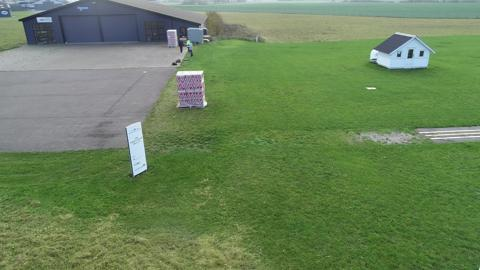RockwoolPallet: (166, 29, 180, 49)
